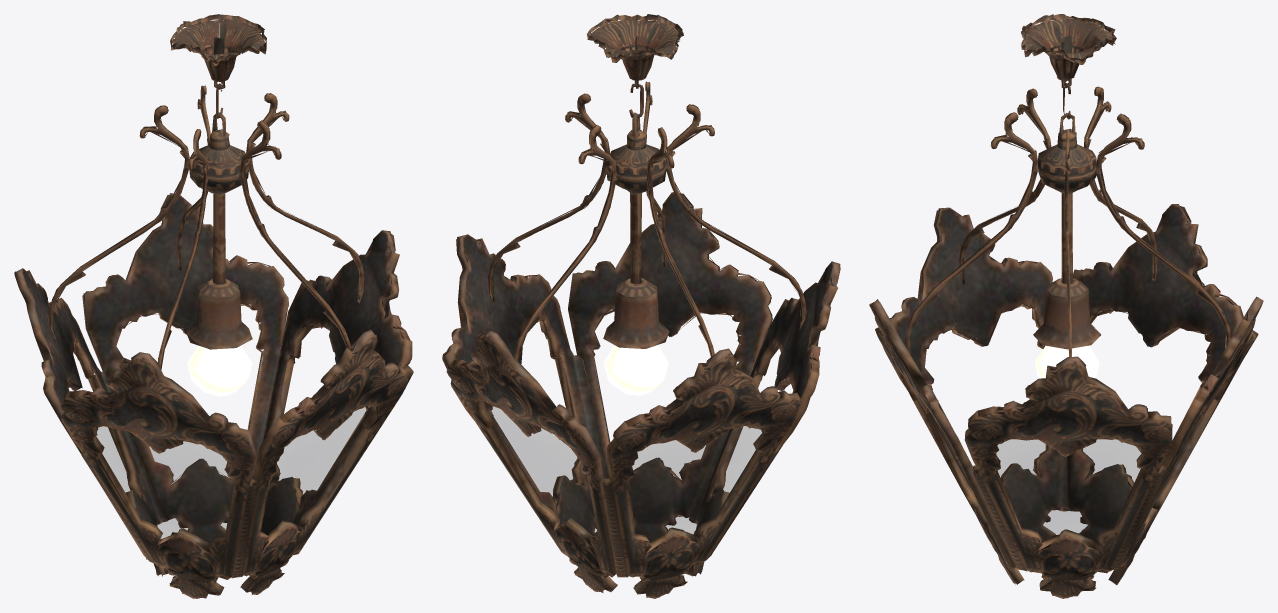
Rendered from chandelier.glb.
3 views of the same model, side by side, from view 1: azimuth 30°, elevation 25°; view 2: azimuth 150°, elevation 25°; view 3: azimuth 270°, elevation 25° (orthographic).
Parts seen in each view (by area): view 1: lantern_chandelier_01; view 2: lantern_chandelier_01; view 3: lantern_chandelier_01.
Boxes of the visible parts, x1,y1,x2,y2 form: lantern_chandelier_01: (14, 14, 413, 598); lantern_chandelier_01: (442, 14, 840, 598); lantern_chandelier_01: (869, 14, 1263, 598).
Size of the model in its own units: 0.5799 by 0.8787 by 0.5746.
Materials: 3 (2 with a texture image).
